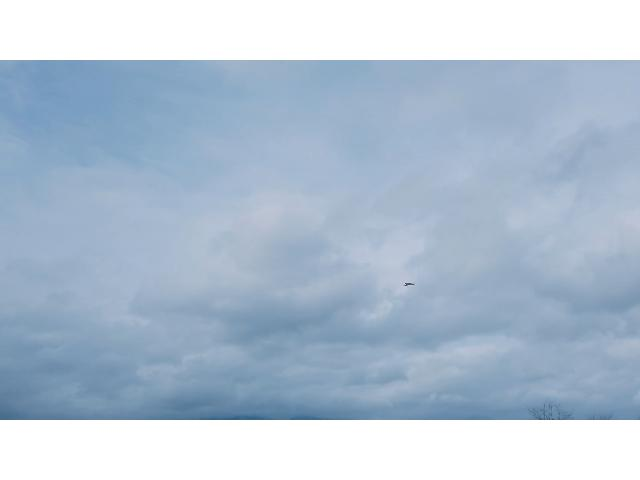Anti-Drone: (402, 278, 416, 290)
